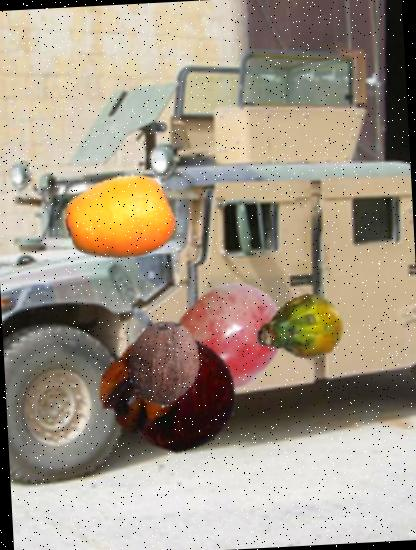Cactus: (258, 287, 347, 376)
Cherry: (165, 274, 294, 403)
Cocos: (118, 318, 210, 410)
Kumquats: (63, 160, 180, 278)
Mangostan: (96, 318, 242, 465)
